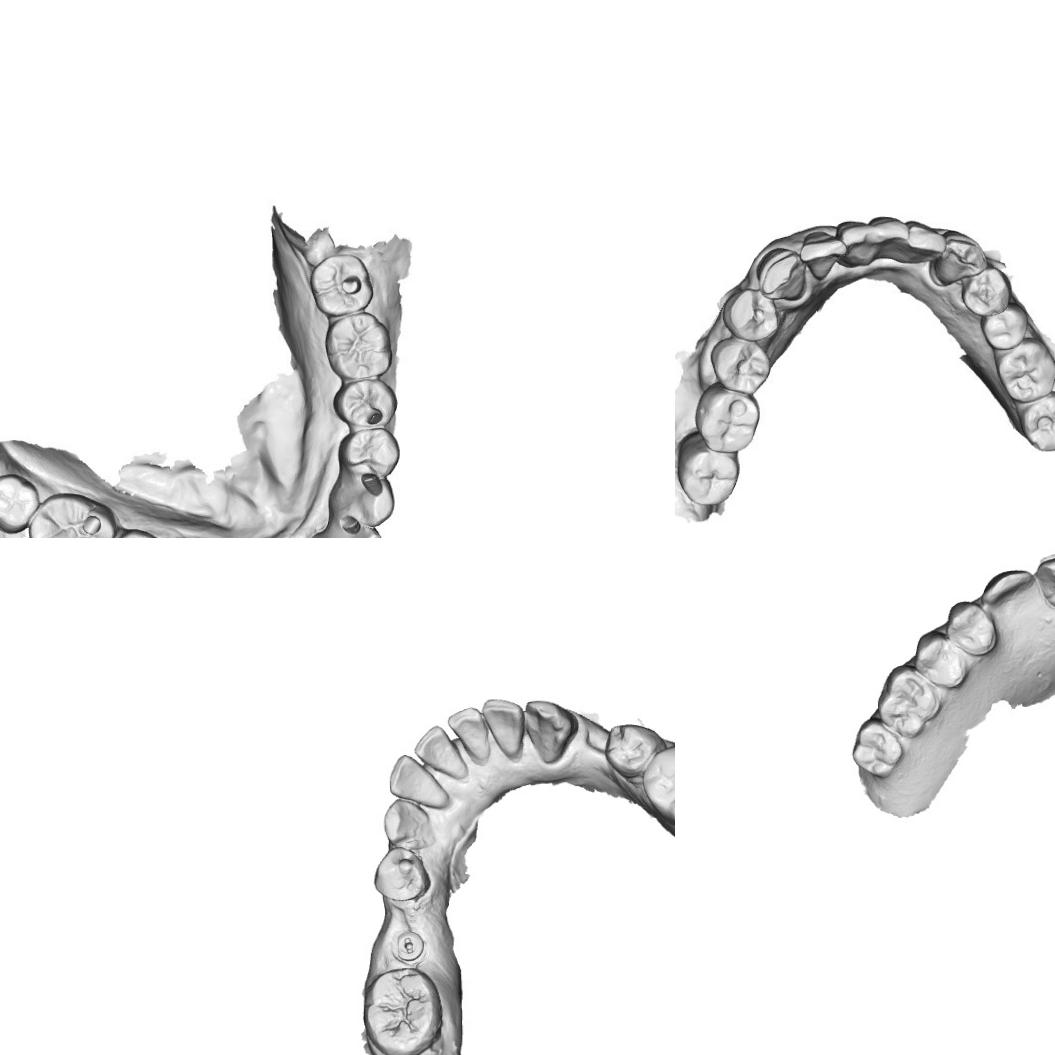canine: (523, 697, 580, 765), (324, 472, 392, 524), (929, 227, 982, 290), (756, 246, 810, 302), (382, 797, 433, 849), (978, 568, 1037, 610)
implant_minus: (394, 929, 425, 962)
incisor: (388, 752, 451, 811), (413, 724, 469, 785), (481, 696, 527, 762), (446, 705, 492, 766), (904, 218, 948, 268), (840, 218, 878, 269), (804, 228, 845, 275), (870, 217, 910, 265), (1033, 554, 1055, 610), (335, 517, 380, 538)
molar: (362, 965, 445, 1055), (876, 663, 944, 739), (675, 431, 737, 511), (324, 312, 396, 380), (695, 387, 760, 456), (992, 336, 1055, 407), (28, 490, 116, 538), (308, 252, 373, 316), (848, 717, 906, 781), (640, 741, 675, 831), (0, 470, 41, 532), (1019, 388, 1055, 454)
premolar: (602, 722, 670, 789), (709, 334, 772, 398), (719, 284, 783, 344), (332, 380, 399, 433), (372, 846, 431, 902), (912, 628, 967, 688), (336, 428, 398, 479), (944, 598, 996, 656), (958, 264, 1010, 318), (982, 302, 1032, 351)
